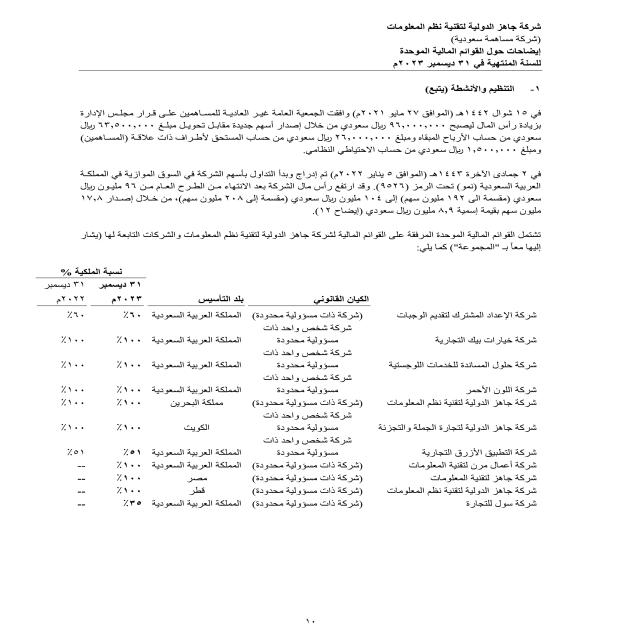notes: (395, 46, 548, 57)
table: (10, 272, 561, 564)
